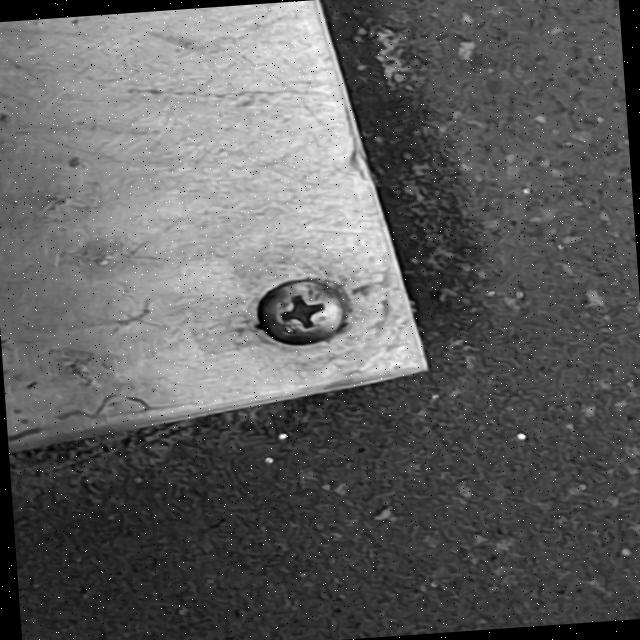Phillips: (243, 256, 365, 366)
